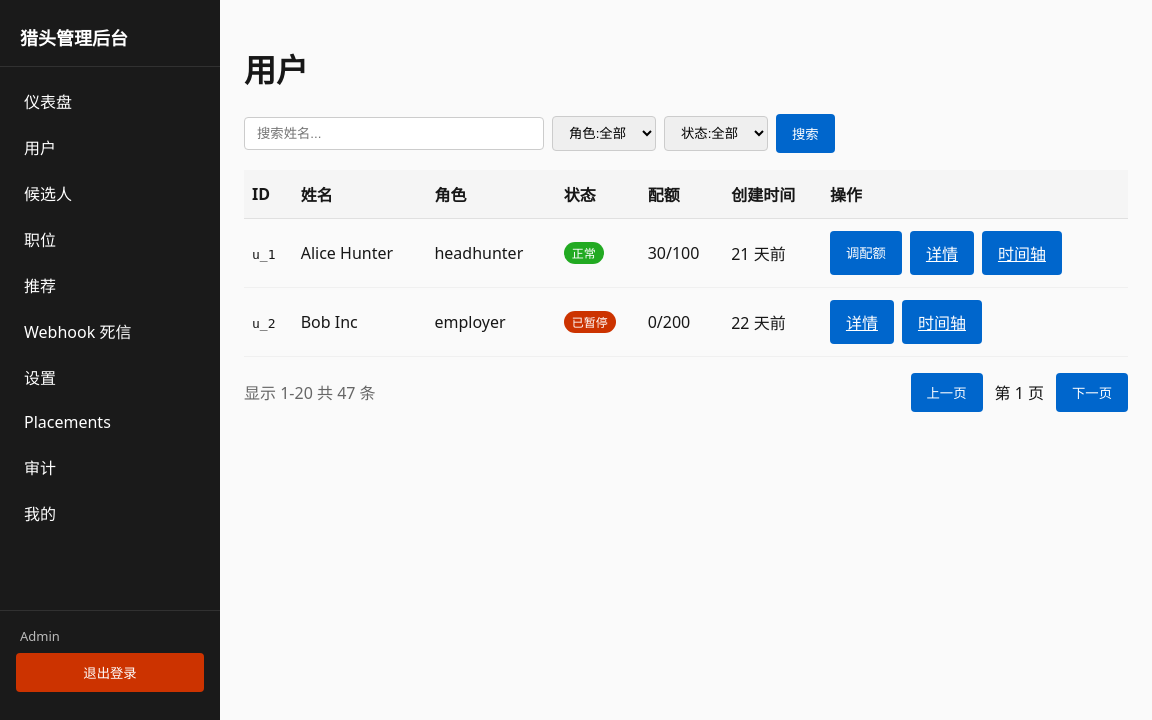
Test: UsersPage › 10. clicking 调配额 opens QuotaModal
Click the button with test id "adjust-quota-u_1" at (866, 253), box [830, 231, 902, 275]
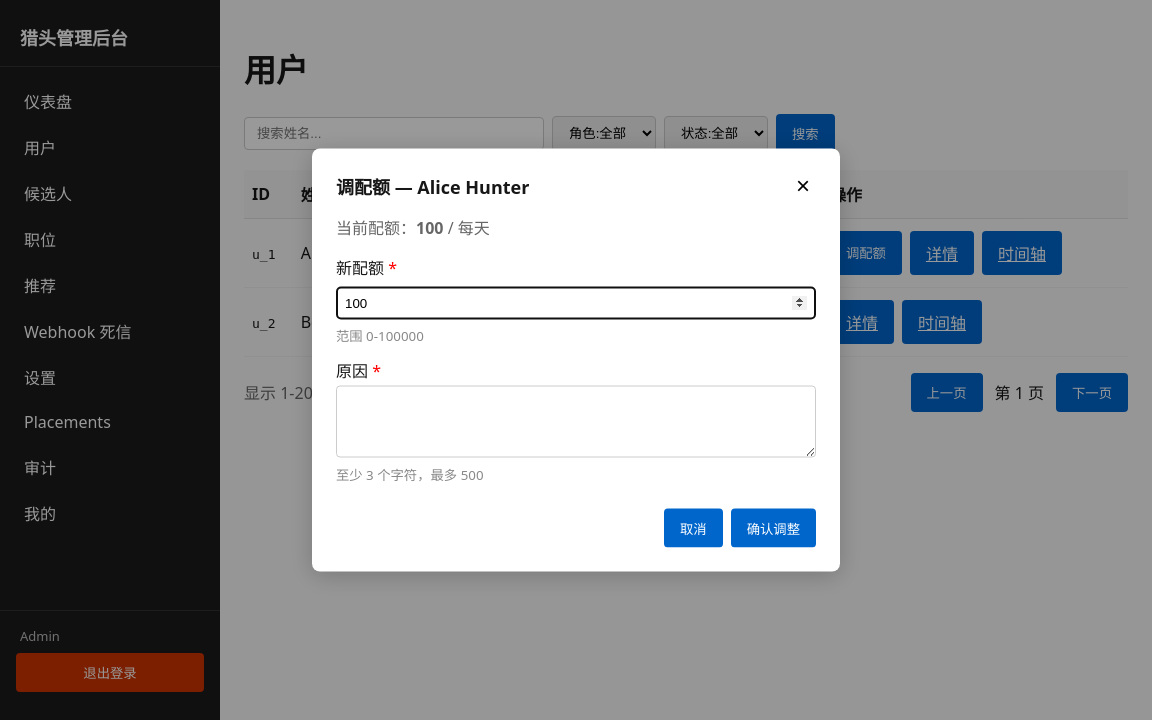
Expected: the dialog is shown, [312, 148, 840, 572]
Expected: the text "当前配额：100 / 每天" is shown, [336, 216, 490, 238]
